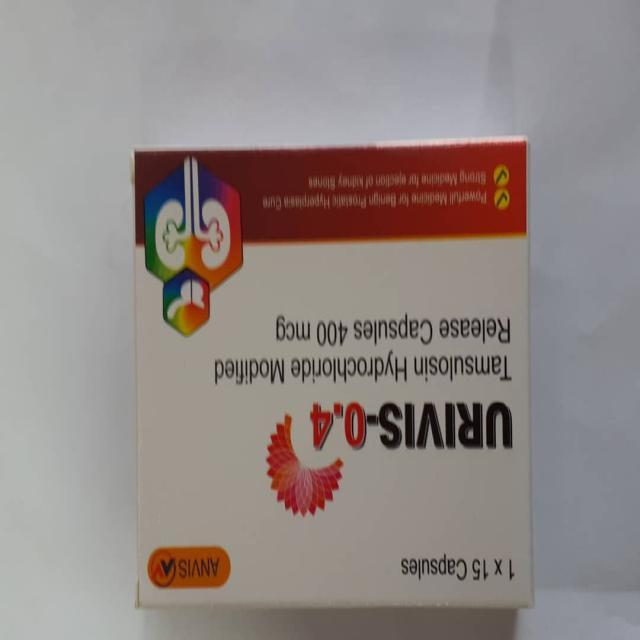drug-name: (308, 402, 516, 453)
